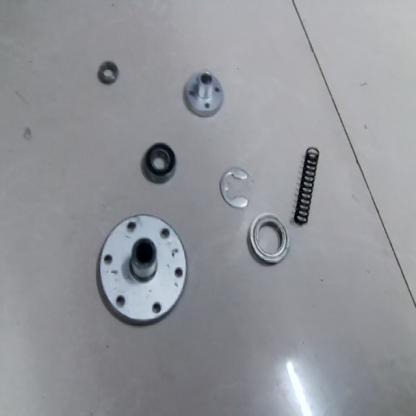FOD: (92, 207, 188, 333), (247, 212, 292, 264), (294, 143, 320, 226), (183, 70, 225, 121), (142, 138, 177, 188), (220, 161, 252, 210), (95, 54, 119, 86)
